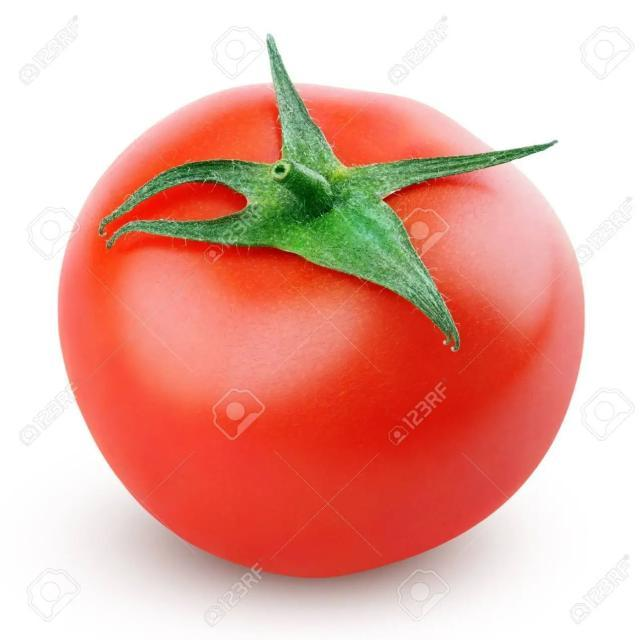kirmizi: (40, 44, 584, 596)
